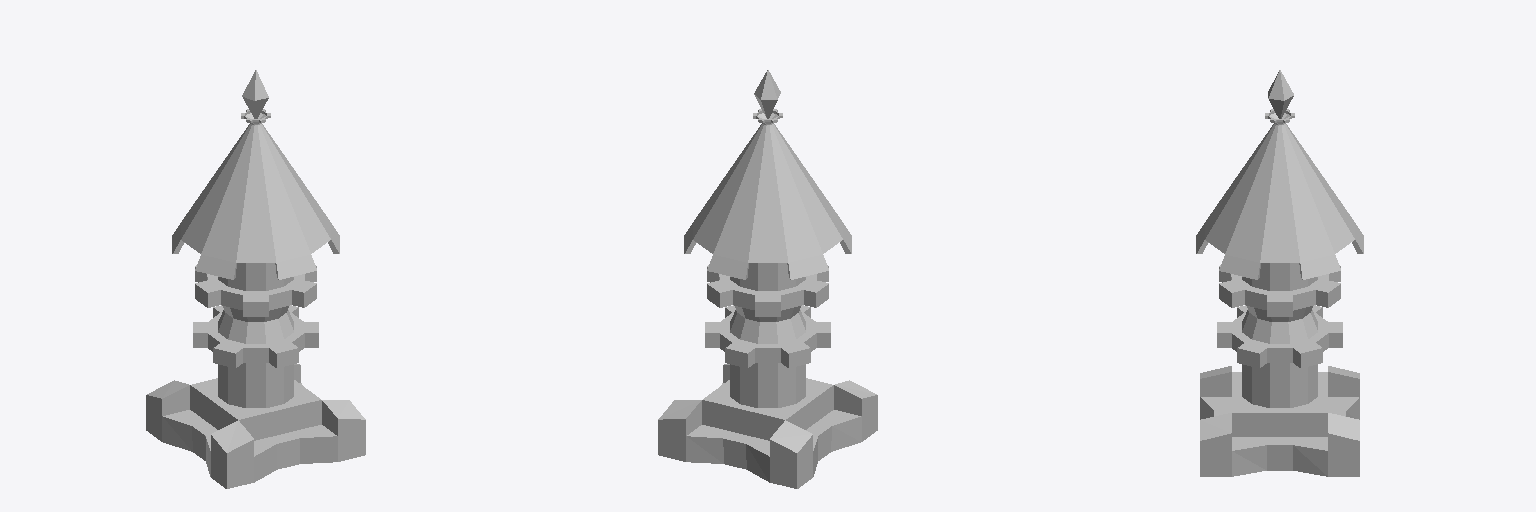
File: Tower_Single_Hit_Dmg.obj
3 views of the same model, side by side, from view 1: azimuth 30°, elevation 25°; view 2: azimuth 150°, elevation 25°; view 3: azimuth 270°, elevation 25° (orthographic).
Visible parts, largest first — view 1: Cone.002; view 2: Cone.002; view 3: Cone.002.
Part boxes in pixels (x1,y1,x2,y2): Cone.002: (146,70,365,488); Cone.002: (658,70,877,488); Cone.002: (1196,70,1363,476).
Bounding box in the file's own units: 1.58 × 3.89 × 1.58.